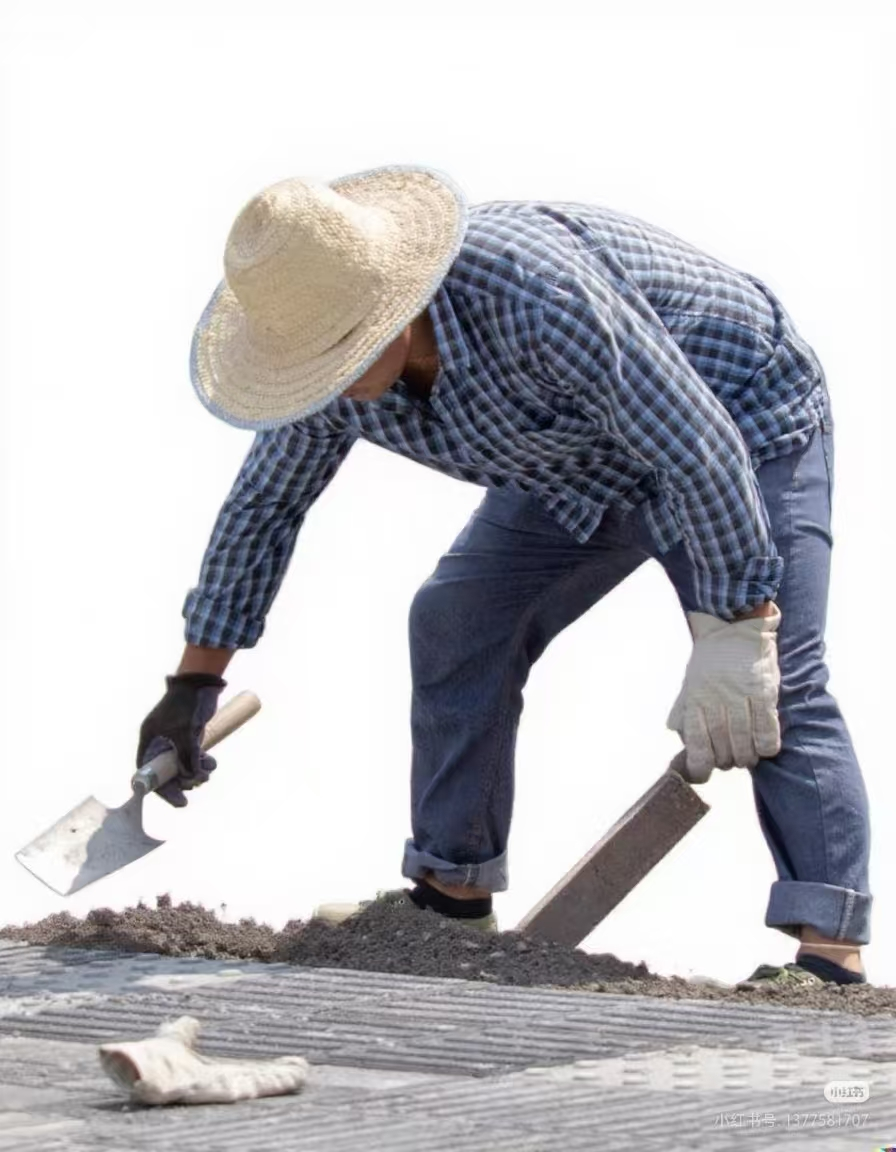bending: (117, 148, 882, 1026)
